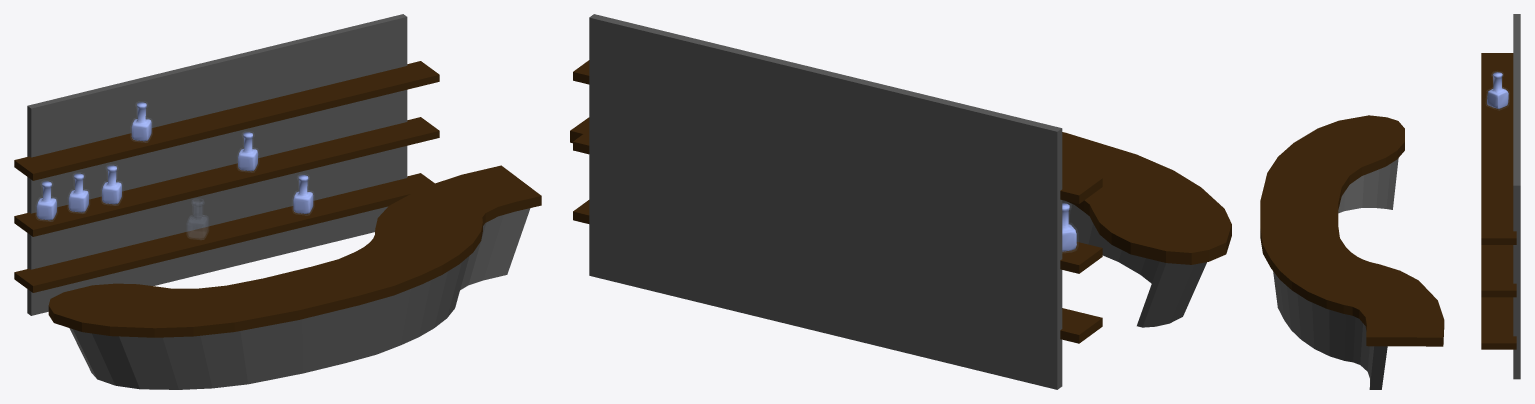
File: Bar.fbx
The picture shows the model from 3 angles, left to right: view 1: azimuth 30°, elevation 25°; view 2: azimuth 150°, elevation 25°; view 3: azimuth 270°, elevation 25°; orthographic projection. The views are drawn at different scales.
Parts seen in each view (by area): view 1: Bar, BackWall, Shelves, Bottle, Bottle Contents.005, Bottle Contents.004, Bottle Contents.001, Bottle Contents.003, Bottle Contents, Bottle Contents.002; view 2: BackWall, Bar, Shelves; view 3: Bar, Shelves, BackWall, Bottle Contents.005.
Part boxes in pixels (x1,y1,x2,y2): Bar: [48, 165, 541, 389]; BackWall: [27, 14, 407, 315]; Shelves: [14, 61, 439, 292]; Bottle: [187, 199, 208, 239]; Bottle Contents.005: [131, 102, 151, 141]; Bottle Contents.004: [293, 175, 313, 213]; Bottle Contents.001: [68, 173, 88, 212]; Bottle Contents.003: [238, 132, 258, 171]; Bottle Contents: [36, 181, 56, 220]; Bottle Contents.002: [102, 165, 121, 204]; BackWall: [589, 14, 1062, 389]; Bar: [570, 117, 1231, 327]; Shelves: [573, 60, 1102, 343]; Bar: [1260, 115, 1444, 389]; Shelves: [1481, 53, 1516, 349]; BackWall: [1513, 14, 1520, 379]; Bottle Contents.005: [1487, 72, 1508, 108].
Size of the model in its own units: 493 by 201 by 244.
